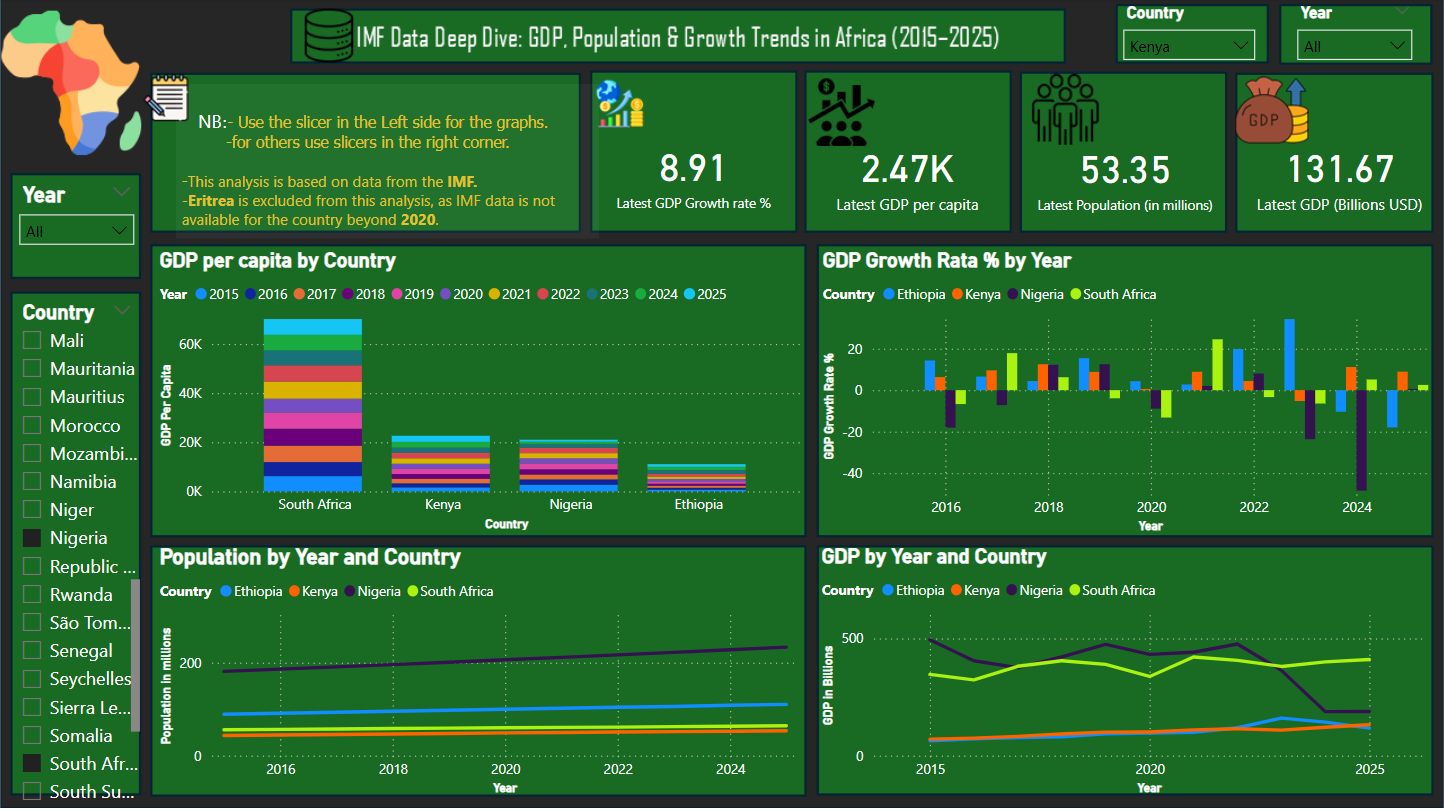

This screenshot's page, from the dashboard's own definition file:
{"tool":"powerbi","page":{"name":"Page 1","canvas":[1280,720],"ordinal":0},"visuals":[{"type":"card","fields":{"Values":["GDP & Pop_n.Latest GDP per capita"]},"box":[714.9,88.5,179.9,137.1],"z":0},{"type":"card","fields":{"Values":["GDP & Pop_n.Latest GDP Growth rate %"]},"box":[524.3,88.5,181.9,133.3],"z":1000},{"type":"card","fields":{"Values":["GDP & Pop_n.Latest Population (in millions)"]},"box":[907.5,88.5,180.9,137.1],"z":2000},{"type":"card","fields":{"Values":["GDP & Pop_n.Latest GDP (Billions USD)"]},"box":[1096.2,88.5,183.8,137.1],"z":3000},{"type":"slicer","fields":{"Values":["GDP & Pop_n.Country"]},"box":[6.8,262.6,121.6,457.1],"z":4000},{"type":"slicer","fields":{"Values":["GDP & Pop_n.Year"]},"box":[6.8,157.6,121.6,89.5],"z":5000},{"type":"lineChart","title":"Population by Year and Country","fields":{"Y":["Sum(GDP & Pop_n.Pop_n in millions)"],"Category":["GDP & Pop_n.Year"],"Series":["GDP & Pop_n.Country"]},"box":[136.2,484.4,578.7,226.6],"z":6000},{"type":"lineChart","title":" GDP  by Year and Country","fields":{"Y":["Sum(GDP & Pop_n.GDP in Billions)"],"Category":["GDP & Pop_n.Year"],"Series":["GDP & Pop_n.Country"]},"box":[723.6,484.4,547.6,226.6],"z":7000},{"type":"clusteredColumnChart","title":" GDP Growth Rata % by Year ","fields":{"Y":["Sum(GDP & Pop_n.GDP Growth Rata %)"],"Category":["GDP & Pop_n.Year"],"Series":["GDP & Pop_n.Country"]},"box":[724,221.8,547,257],"z":8000},{"type":"columnChart","title":" GDP per capita by Country","fields":{"Category":["GDP & Pop_n.Country"],"Y":["Sum(GDP & Pop_n.GDP per capita)"],"Series":["GDP & Pop_n.Year"]},"box":[136.2,221.8,578.7,254.8],"z":9000},{"type":"textbox","box":[155.6,75.9,375.4,137.1],"z":10000},{"type":"slicer","fields":{"Values":["GDP & Pop_n.Country"]},"box":[986.3,0,137.1,60.3],"z":11000},{"type":"slicer","fields":{"Values":["GDP & Pop_n.Year"]},"box":[1139.9,0,121.6,60.3],"z":12000}]}

Visuals, with their boxes in screenshot pixels (x1, y1, x2, y2), scaled from the page's 1280x720 canvas onto the 1444x810 screenshot:
card - GDP & Pop_n.Latest GDP per capita: x1=806, y1=100, x2=1009, y2=254
card - GDP & Pop_n.Latest GDP Growth rate %: x1=591, y1=100, x2=797, y2=250
card - GDP & Pop_n.Latest Population (in millions): x1=1024, y1=100, x2=1228, y2=254
card - GDP & Pop_n.Latest GDP (Billions USD): x1=1237, y1=100, x2=1443, y2=254
slicer - GDP & Pop_n.Country: x1=8, y1=295, x2=145, y2=809
slicer - GDP & Pop_n.Year: x1=8, y1=177, x2=145, y2=278
"Population by Year and Country" lineChart: x1=154, y1=545, x2=806, y2=800
" GDP  by Year and Country" lineChart: x1=816, y1=545, x2=1434, y2=800
" GDP Growth Rata % by Year " clusteredColumnChart: x1=817, y1=250, x2=1434, y2=539
" GDP per capita by Country" columnChart: x1=154, y1=250, x2=806, y2=536
textbox: x1=176, y1=85, x2=599, y2=240
slicer - GDP & Pop_n.Country: x1=1113, y1=0, x2=1267, y2=68
slicer - GDP & Pop_n.Year: x1=1286, y1=0, x2=1423, y2=68
